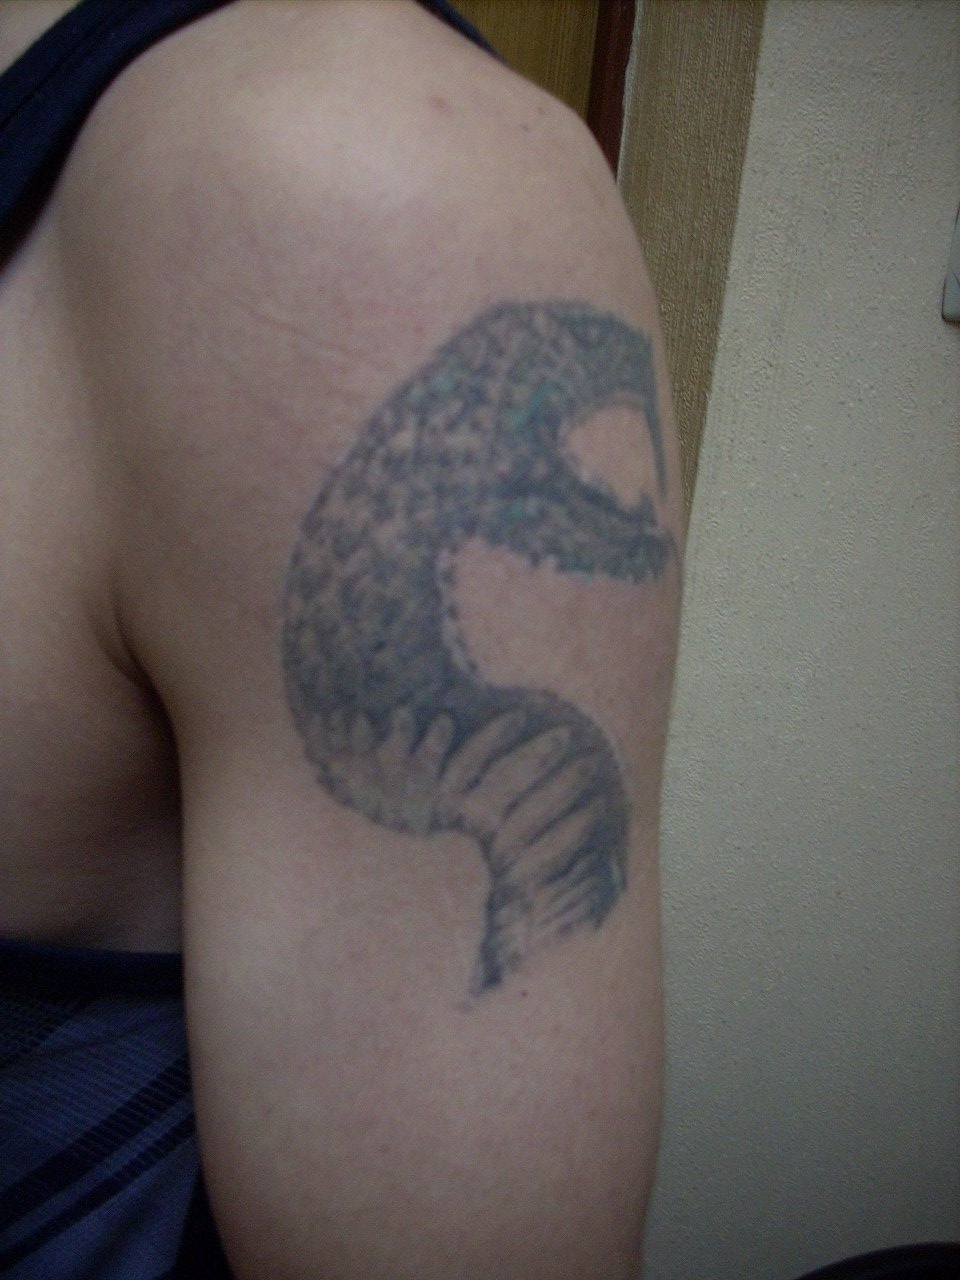tatu7_zmeya: (233, 235, 697, 959)
